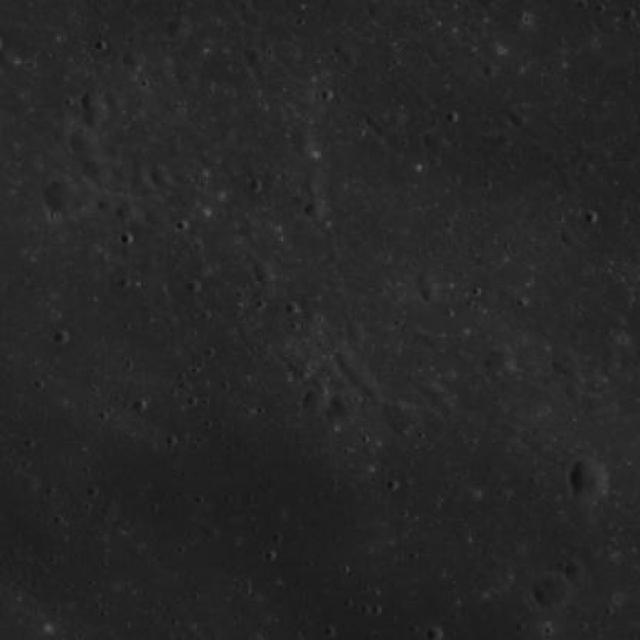crater: (46, 176, 91, 221), (572, 458, 614, 500), (535, 572, 574, 611), (326, 392, 360, 426), (421, 380, 454, 412), (82, 154, 113, 186), (488, 346, 517, 374), (70, 128, 98, 156), (292, 125, 318, 150), (383, 399, 408, 424), (85, 102, 110, 126), (174, 63, 198, 88), (338, 354, 362, 378), (357, 378, 380, 402), (83, 87, 106, 110), (566, 562, 588, 584), (304, 390, 326, 412), (119, 200, 141, 222), (169, 19, 191, 41), (330, 342, 352, 364), (246, 44, 266, 66), (236, 219, 256, 241), (117, 162, 137, 182), (133, 171, 153, 191), (496, 282, 516, 302), (18, 472, 38, 492), (293, 136, 312, 156), (365, 0, 386, 18), (126, 51, 145, 70), (99, 498, 118, 517), (142, 204, 161, 223), (306, 200, 326, 218), (138, 258, 156, 277), (300, 175, 318, 194), (562, 382, 580, 400), (258, 266, 276, 283), (424, 42, 442, 58), (347, 322, 364, 338), (154, 172, 171, 188), (323, 272, 340, 288), (550, 356, 566, 372), (441, 29, 457, 45), (374, 121, 390, 137), (443, 124, 459, 140), (600, 344, 616, 359), (427, 627, 443, 640)
